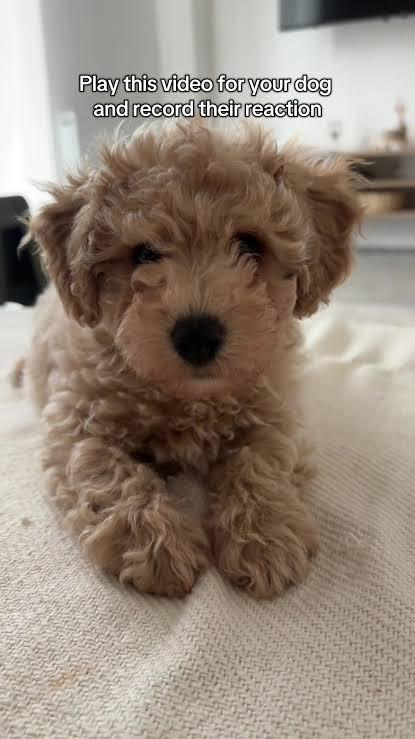puppy-dog: (14, 120, 366, 602)
